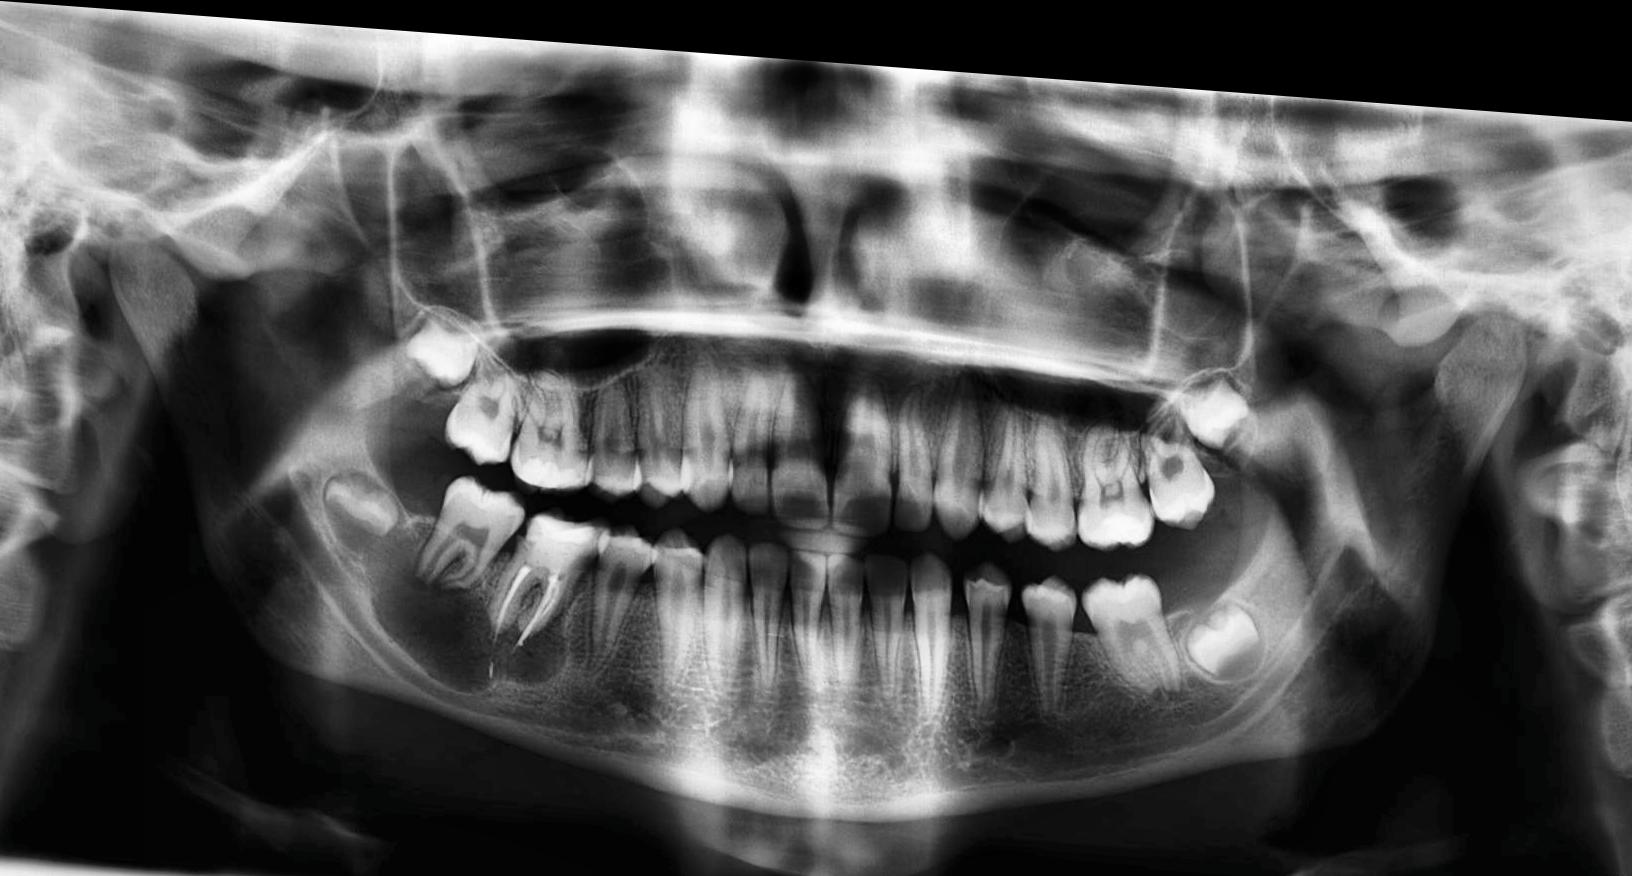radicular: (359, 509, 573, 695)
